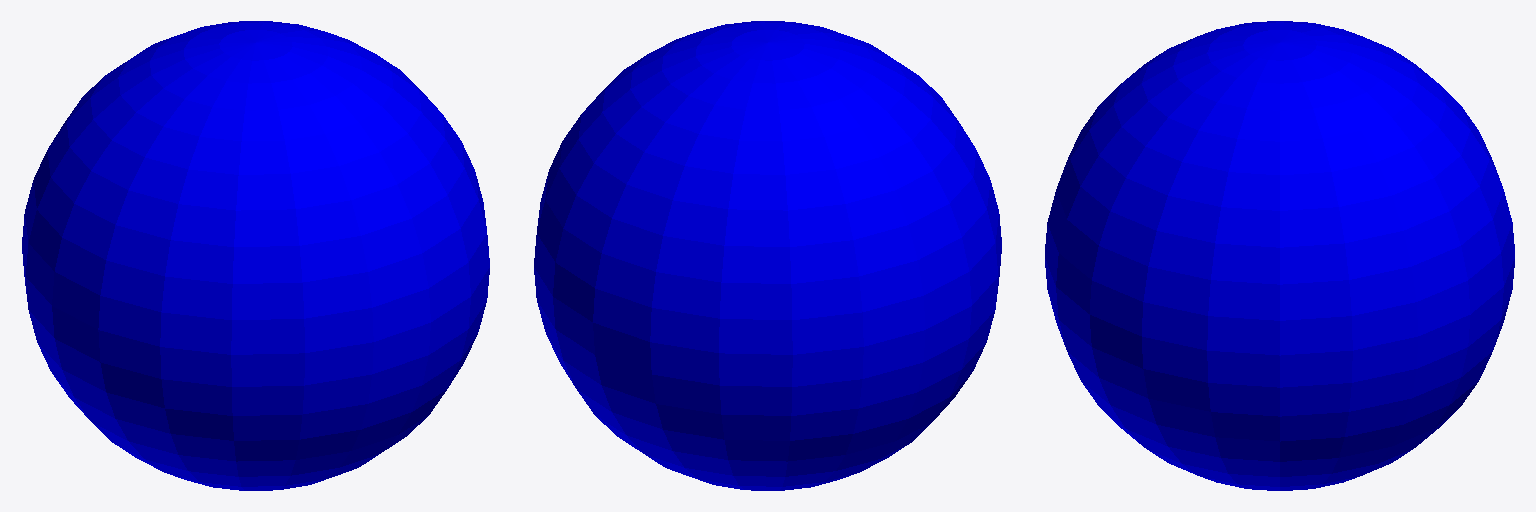
The model's file is sphere_blue_blinn_760_tris_QUADS.obj.
3 views of the same model, side by side, from view 1: azimuth 30°, elevation 25°; view 2: azimuth 150°, elevation 25°; view 3: azimuth 270°, elevation 25° (orthographic).
Visible parts, largest first — view 1: pSphere1; view 2: pSphere1; view 3: pSphere1.
Part boxes in pixels (x1,y1,x2,y2): pSphere1: (22, 21, 489, 490); pSphere1: (534, 21, 1001, 490); pSphere1: (1045, 21, 1514, 490).
Bounding box in the file's own units: 2 × 2 × 2.